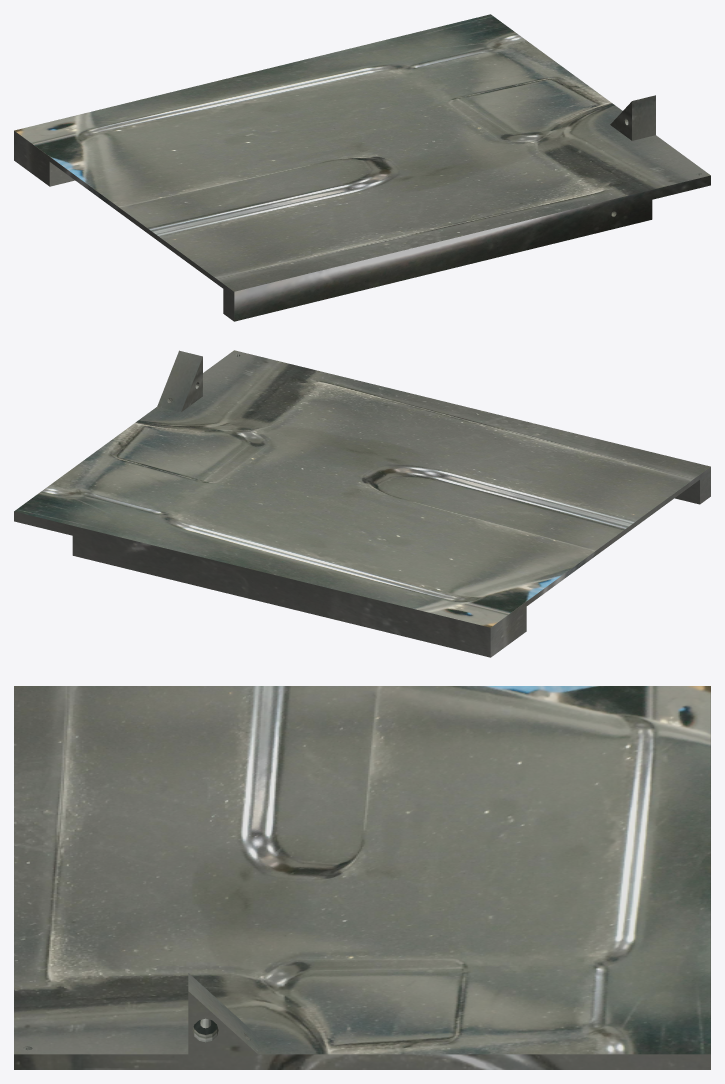
File: hole_base_link.dae
3 views of the same model, one above another, from view 1: azimuth 30°, elevation 25°; view 2: azimuth 150°, elevation 25°; view 3: azimuth 270°, elevation 25° (orthographic). The views are drawn at different scales.
Parts seen in each view (by area): view 1: hole_base_link; view 2: hole_base_link; view 3: hole_base_link.
Part boxes in pixels (x1,y1,x2,y2): hole_base_link: [14, 14, 710, 321]; hole_base_link: [14, 350, 710, 657]; hole_base_link: [14, 686, 710, 1069].
Size of the model in its own units: 0.5 by 0.4 by 0.07.
1 material, 1 textured.
